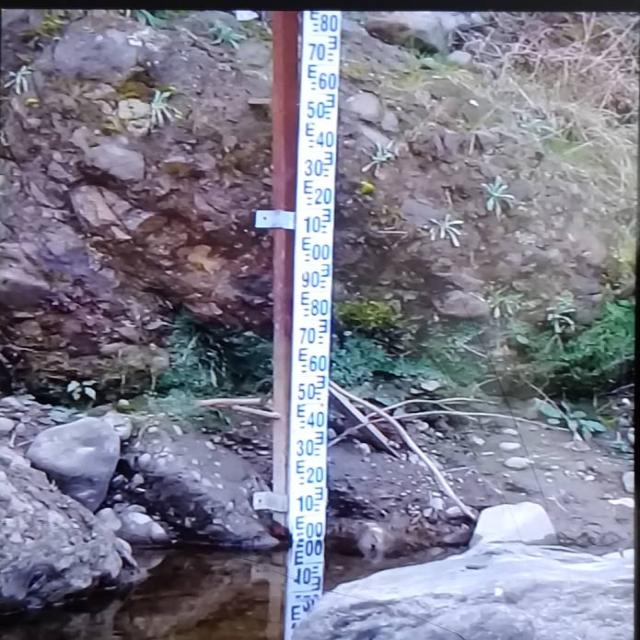ruler: (268, 6, 352, 546)
value: (313, 68, 341, 92), (315, 9, 341, 34), (301, 155, 328, 179), (296, 268, 324, 291), (290, 436, 318, 459), (298, 214, 327, 236), (302, 99, 330, 121), (313, 128, 338, 152), (306, 295, 332, 318), (294, 379, 320, 402), (304, 353, 331, 375), (309, 185, 337, 206), (304, 40, 329, 63), (301, 464, 327, 486), (307, 242, 334, 263), (302, 517, 326, 540), (301, 410, 328, 430), (296, 326, 320, 348), (294, 492, 318, 514)
